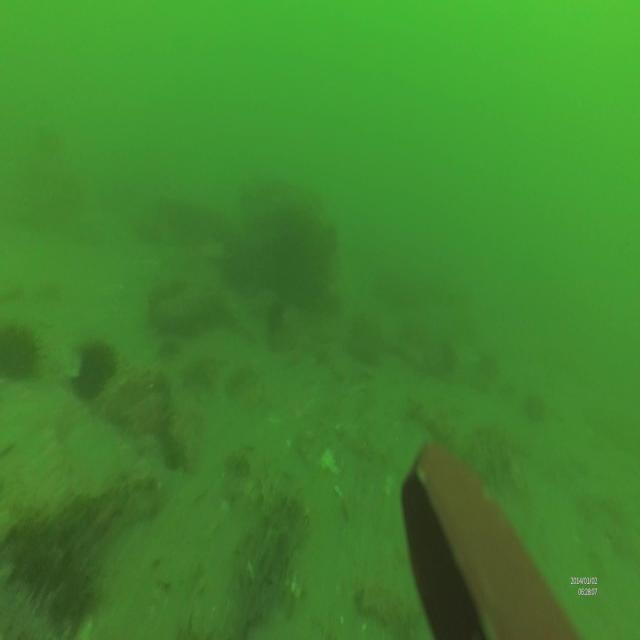echinus: (74, 342, 120, 404), (1, 320, 42, 380), (266, 296, 287, 332)
holothurian: (357, 577, 424, 636)
